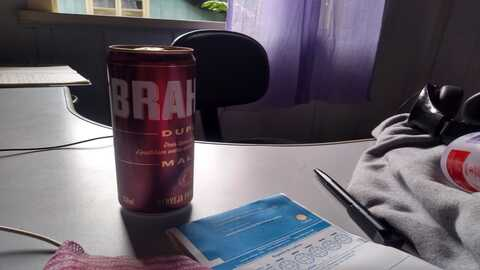duplo_malte: (103, 46, 197, 213)
